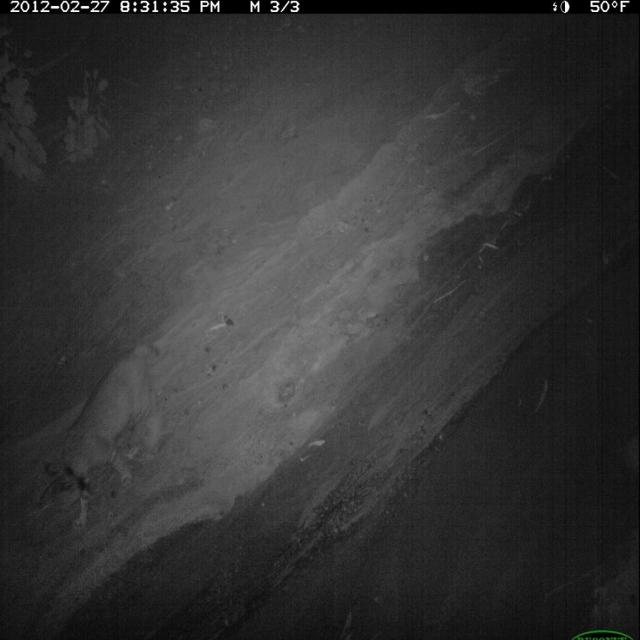bobcat: (42, 334, 166, 536)
